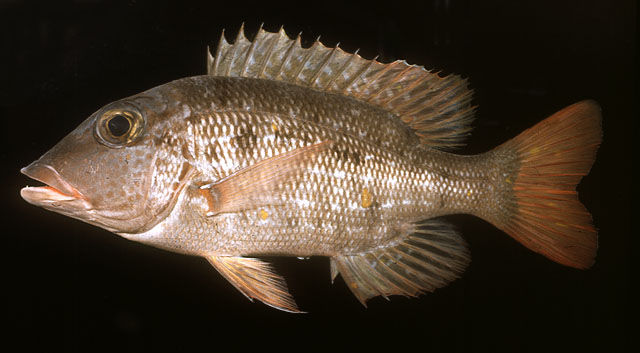fish: (20, 21, 604, 314)
